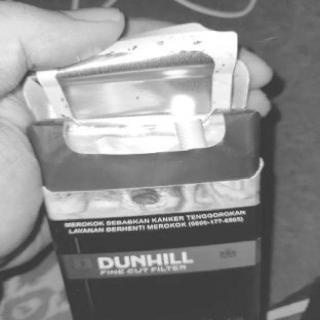objects: (24, 23, 260, 320)
